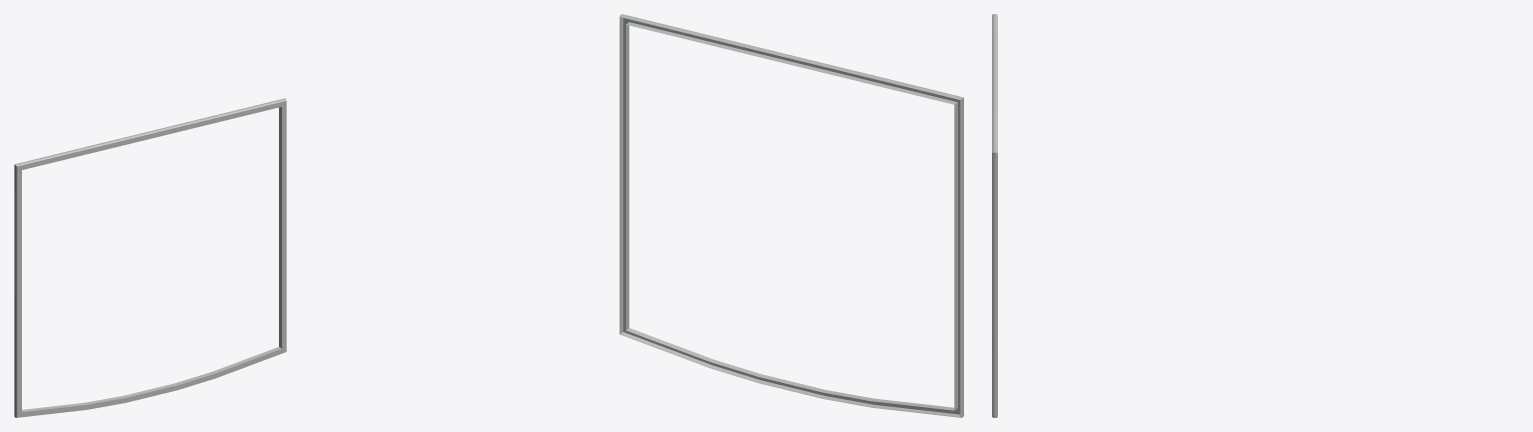
File: FridgeDrawer1_23_FridgeDrawer1D5_1_GeomSubset_1.obj
The picture shows the model from 3 angles, left to right: view 1: azimuth 30°, elevation 25°; view 2: azimuth 150°, elevation 25°; view 3: azimuth 270°, elevation 25°; orthographic projection. The views are drawn at different scales.
Visible parts, largest first — view 1: FridgeDrawer1_23_FridgeDrawer1D5_1_GeomSubset_1; view 2: FridgeDrawer1_23_FridgeDrawer1D5_1_GeomSubset_1; view 3: FridgeDrawer1_23_FridgeDrawer1D5_1_GeomSubset_1.
Boxes of the visible parts, box(x1,y1,x2,y2) form: FridgeDrawer1_23_FridgeDrawer1D5_1_GeomSubset_1: box(14, 98, 286, 417); FridgeDrawer1_23_FridgeDrawer1D5_1_GeomSubset_1: box(619, 14, 963, 417); FridgeDrawer1_23_FridgeDrawer1D5_1_GeomSubset_1: box(992, 14, 997, 417).
Bounding box in the file's own units: 0.4557 × 0.4249 × 0.7308.
